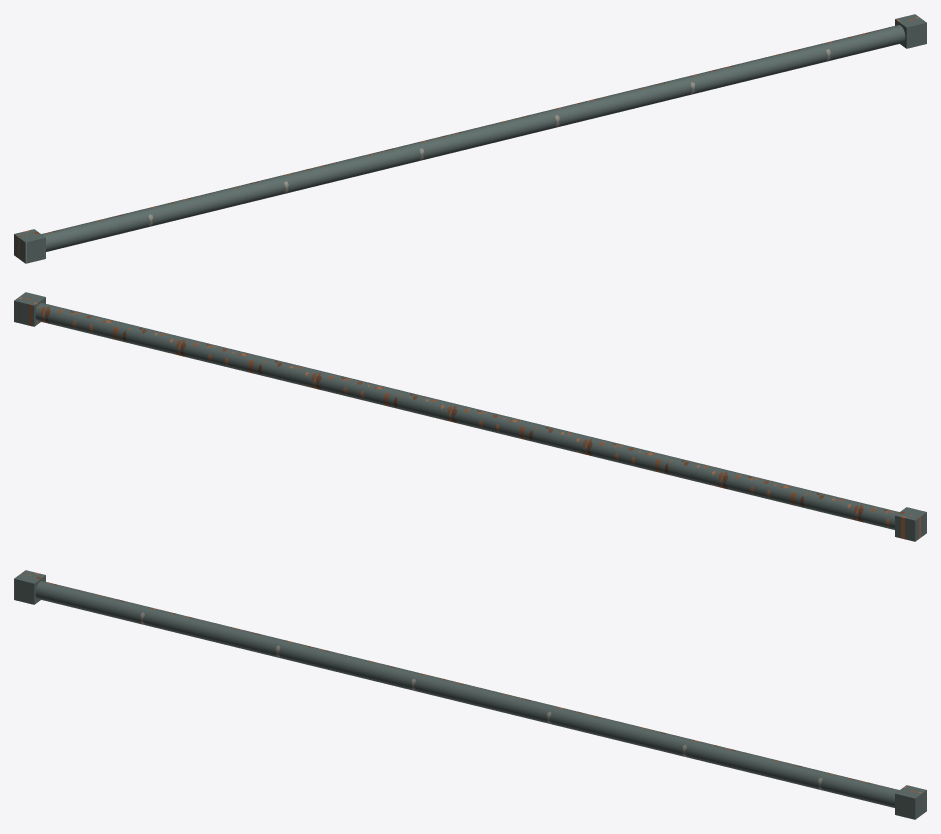
Rendered from ThanhRem.glb.
3 views of the same model, one above another, from view 1: azimuth 30°, elevation 25°; view 2: azimuth 150°, elevation 25°; view 3: azimuth 330°, elevation 25° (orthographic).
Parts seen in each view (by area): view 1: geometry_0; view 2: geometry_0; view 3: geometry_0.
Boxes of the visible parts, x1,y1,x2,y2 form: geometry_0: [14, 14, 926, 263]; geometry_0: [14, 292, 926, 541]; geometry_0: [14, 570, 926, 819].
Bounding box in the file's own units: 1.33 × 0.03 × 0.03.
Materials: 1 (1 with a texture image).
